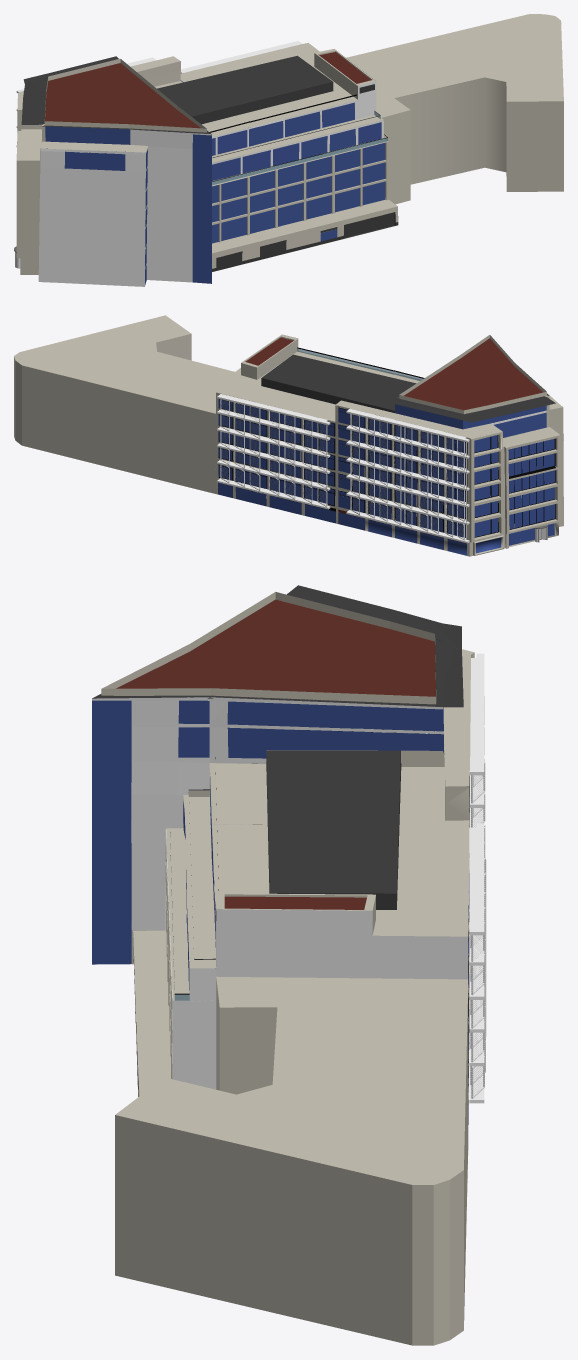
Rendered from MarbleArchHouse.glb.
3 views of the same model, one above another, from view 1: azimuth 30°, elevation 25°; view 2: azimuth 150°, elevation 25°; view 3: azimuth 270°, elevation 25° (orthographic). The views are drawn at different scales.
Visible parts, largest first — view 1: Building, WFS, Drop5, Drop9, Drop8, Drop6, Drop7, Cube.290; view 2: Building, Drop12, Drop9, Drop10, Drop11, Drop8, Drop7, Drop3, Drop6, Drop2, Drop1, Cube.874 (+12 smaller); view 3: Building, Drop5, Drop6, Drop7, Cube.874, Cube.290.
Boxes of the visible parts, <box> form: Building: <box>16,14,563,286</box>; WFS: <box>212,143,385,243</box>; Drop5: <box>192,134,211,283</box>; Drop9: <box>45,122,381,180</box>; Drop8: <box>180,80,354,155</box>; Drop6: <box>42,126,130,144</box>; Drop7: <box>64,131,186,170</box>; Cube.290: <box>181,41,301,73</box>; Building: <box>14,315,563,556</box>; Drop12: <box>218,464,498,537</box>; Drop9: <box>218,410,498,486</box>; Drop10: <box>218,427,498,502</box>; Drop11: <box>218,447,498,518</box>; Drop8: <box>218,394,498,468</box>; Drop7: <box>338,407,546,454</box>; Drop3: <box>536,439,554,536</box>; Drop6: <box>395,398,546,429</box>; Drop2: <box>520,443,536,542</box>; Drop1: <box>508,446,521,545</box>; Cube.874: <box>346,408,469,442</box>; Building: <box>92,585,474,1345</box>; Drop5: <box>92,700,131,964</box>; Drop6: <box>178,639,443,731</box>; Drop7: <box>178,670,469,807</box>; Cube.874: <box>469,653,484,775</box>; Cube.290: <box>469,823,484,935</box>.
Size of the model in its own units: 115 by 29.44 by 38.28.
17 materials, 1 textured.
